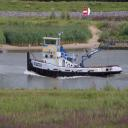tugboat: (28, 28, 125, 82)
